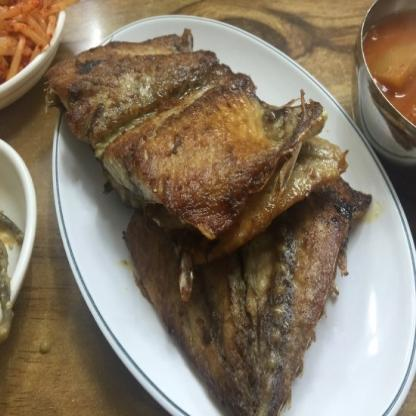Peixe: (58, 45, 359, 407)
